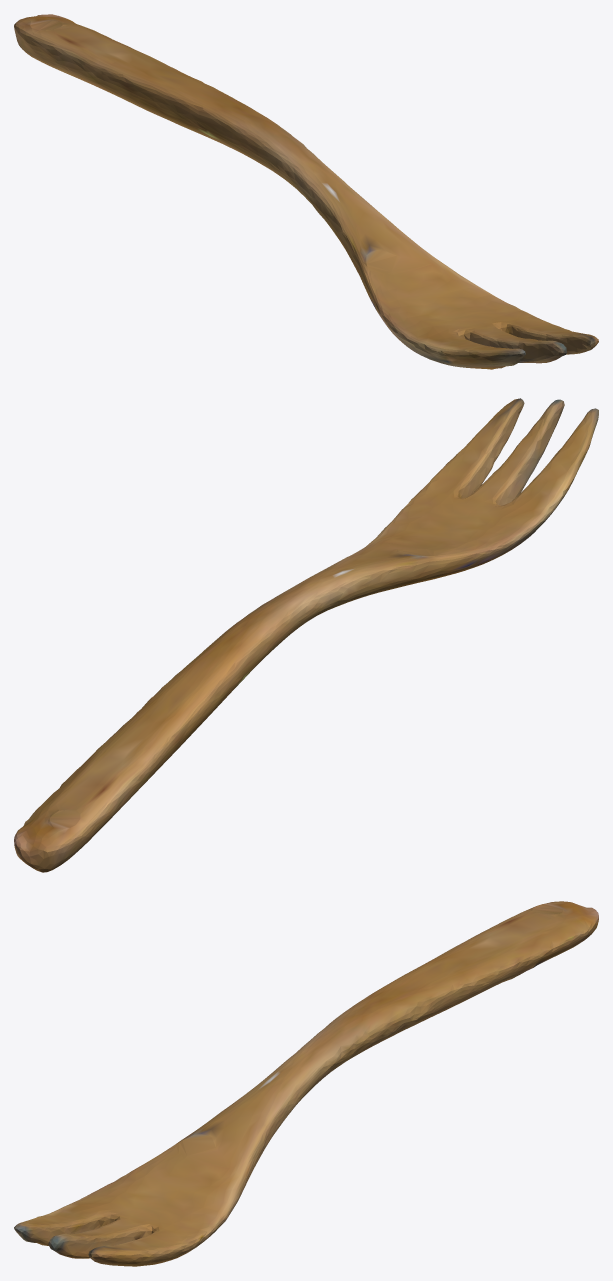
The model's file is scan.obj.
3 renders of one model, top to bottom at view 1: azimuth 30°, elevation 25°; view 2: azimuth 150°, elevation 25°; view 3: azimuth 330°, elevation 25°, orthographic.
Visible parts, largest first — view 1: scan.ply; view 2: scan.ply; view 3: scan.ply.
Boxes of the visible parts, x1,y1,x2,y2 form: scan.ply: (14, 14, 598, 369); scan.ply: (14, 398, 598, 872); scan.ply: (14, 901, 598, 1266).
Bounding box in the file's own units: 0.0279 × 0.0185 × 0.2071.
